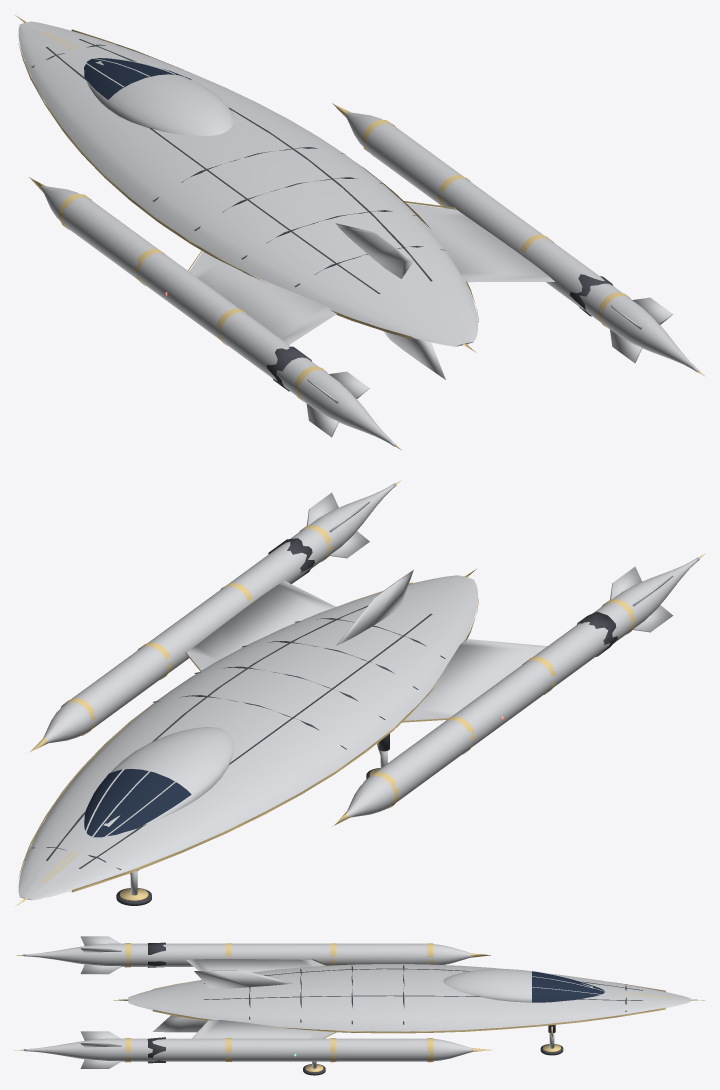
File: courier-lod2.glb
The picture shows the model from 3 angles, top to bottom: view 1: azimuth 30°, elevation 25°; view 2: azimuth 150°, elevation 25°; view 3: azimuth 270°, elevation 25°; orthographic projection. The views are drawn at different scales.
Parts seen in each view (by area): view 1: Body_Chrome.002, Body_Gold.002, Body_Graphite.002, Visor.002; view 2: Body_Chrome.002, Visor.002, Body_Gold.002, Body_Graphite.002; view 3: Body_Chrome.002, Body_Gold.002, Body_Graphite.002, Visor.002.
Boxes of the visible parts, x1=… form: Body_Chrome.002: x1=18, y1=21, x2=699, y2=446; Body_Gold.002: x1=14, y1=14, x2=705, y2=449; Body_Graphite.002: x1=31, y1=39, x2=613, y2=391; Visor.002: x1=84, y1=58, x2=191, y2=99; Body_Chrome.002: x1=18, y1=483, x2=699, y2=900; Visor.002: x1=84, y1=768, x2=191, y2=837; Body_Gold.002: x1=15, y1=480, x2=705, y2=906; Body_Graphite.002: x1=32, y1=538, x2=617, y2=869; Body_Chrome.002: x1=23, y1=936, x2=690, y2=1068; Body_Gold.002: x1=14, y1=943, x2=705, y2=1062; Body_Graphite.002: x1=147, y1=942, x2=643, y2=1063; Visor.002: x1=532, y1=971, x2=604, y2=1002.
Size of the model in its own units: 13.31 by 4.62 by 36.4.
